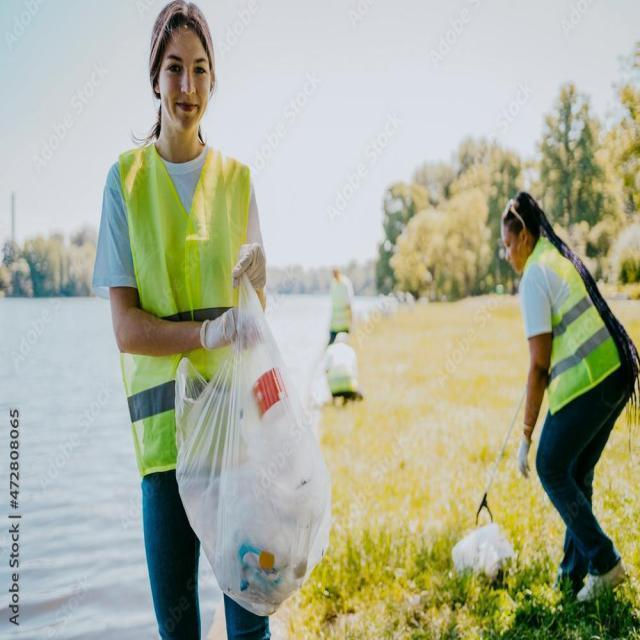Plastic_Bag: (173, 280, 327, 626)
